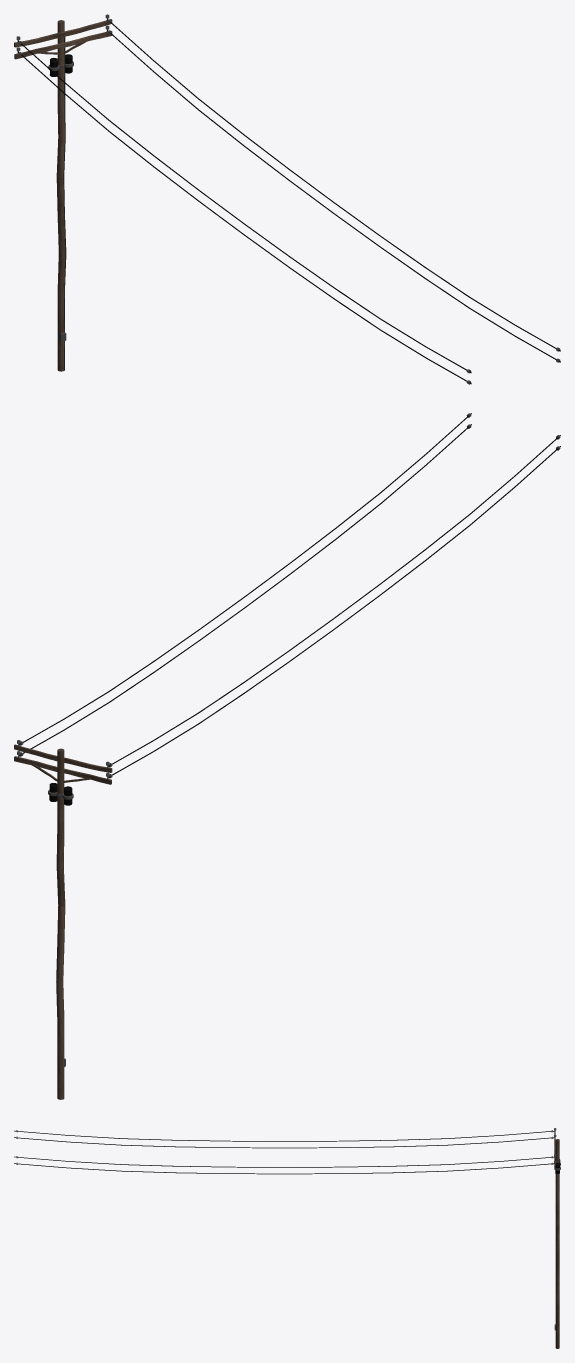
Rendered from utility_pole.glb.
3 views of the same model, one above another, from view 1: azimuth 30°, elevation 25°; view 2: azimuth 150°, elevation 25°; view 3: azimuth 270°, elevation 25° (orthographic). The views are drawn at different scales.
Parts seen in each view (by area): view 1: SM_Electrical_Powerline_Electrical_Powerline_MAT_0; view 2: SM_Electrical_Powerline_Electrical_Powerline_MAT_0; view 3: SM_Electrical_Powerline_Electrical_Powerline_MAT_0.
Boxes of the visible parts, x1,y1,x2,y2 form: SM_Electrical_Powerline_Electrical_Powerline_MAT_0: (14, 14, 560, 384); SM_Electrical_Powerline_Electrical_Powerline_MAT_0: (14, 413, 560, 1099); SM_Electrical_Powerline_Electrical_Powerline_MAT_0: (14, 1128, 560, 1348).
Size of the model in its own units: 3.22 by 11 by 26.21.
Materials: 1 (1 with a texture image).
